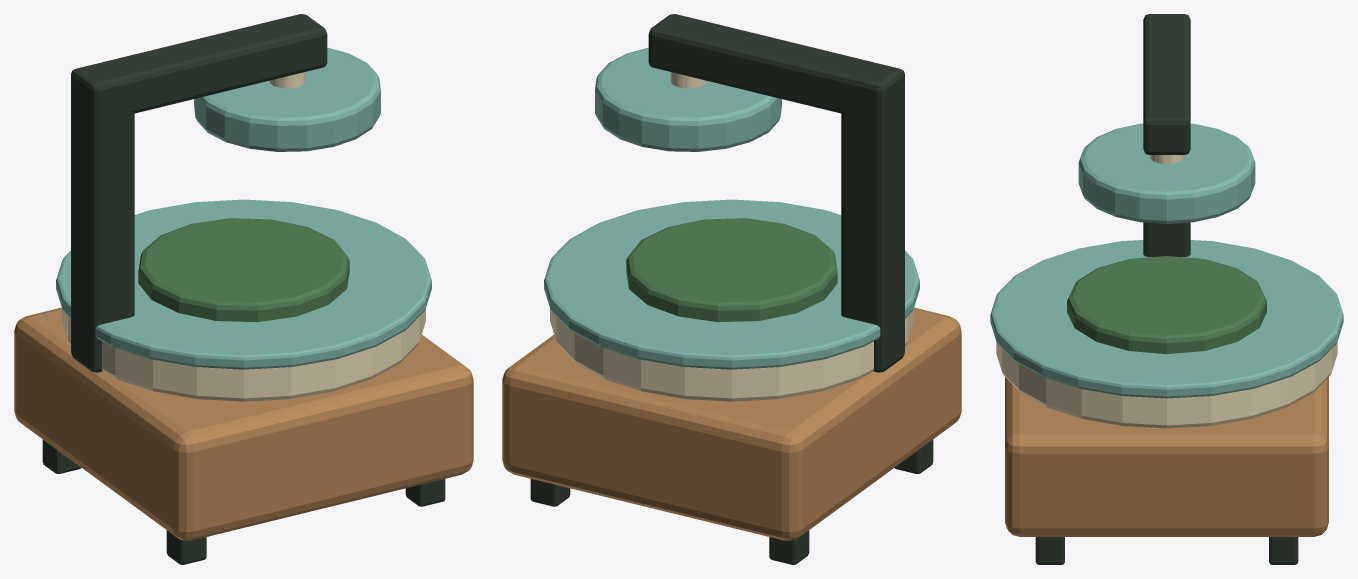
Rendered from SM_RollTable.fbx.
The picture shows the model from 3 angles, left to right: view 1: azimuth 30°, elevation 25°; view 2: azimuth 150°, elevation 25°; view 3: azimuth 270°, elevation 25°; orthographic projection. The views are drawn at different scales.
Visible parts, largest first — view 1: RollMesh; view 2: RollMesh; view 3: RollMesh.
Part boxes in pixels (x1,y1,x2,y2): RollMesh: [14, 14, 473, 564]; RollMesh: [502, 14, 961, 564]; RollMesh: [990, 14, 1343, 564].
Size of the model in its own units: 1.2 by 1.57 by 1.2.
